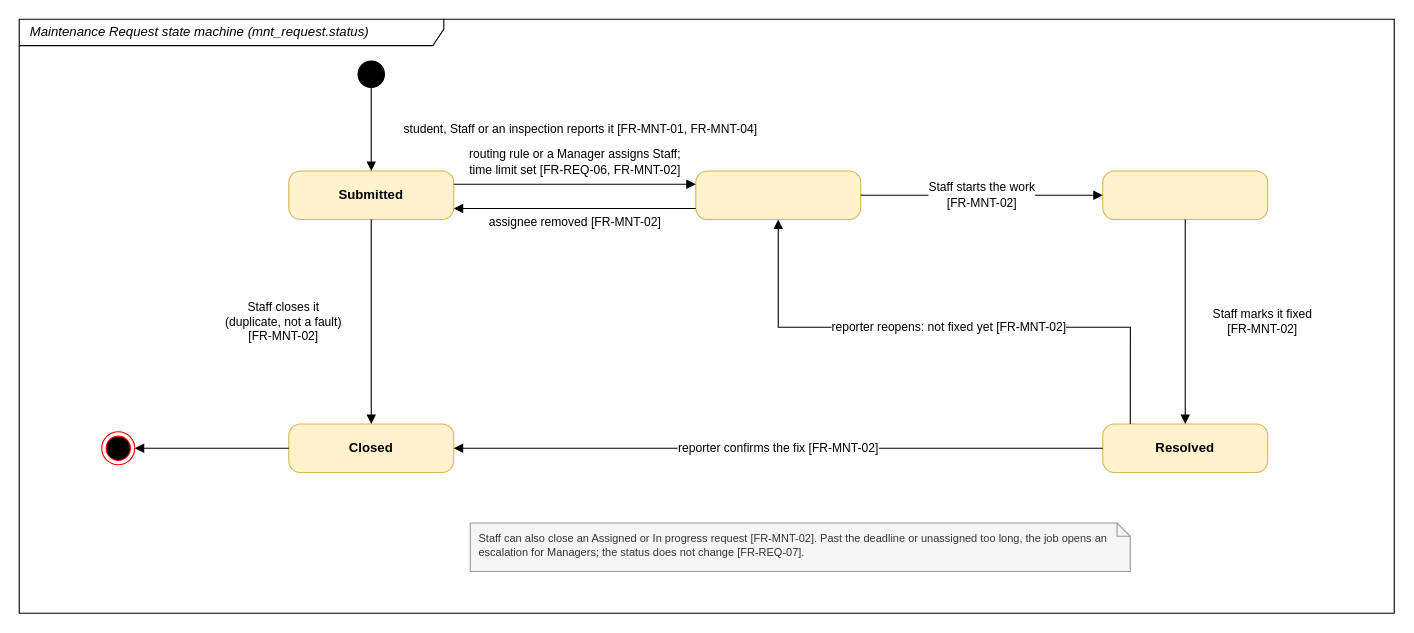
Image size: 1414x633. Some labels were removed from this diagram. Here are the shapes that lost their labels. From the top down, the centre of each, then its label:
(778,194): Assigned
(1185,194): In progress
